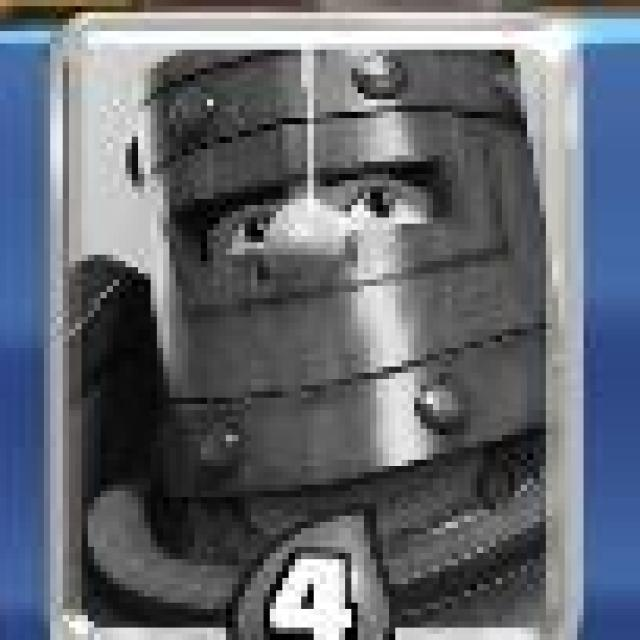Dark_Prince: (45, 4, 591, 640)
